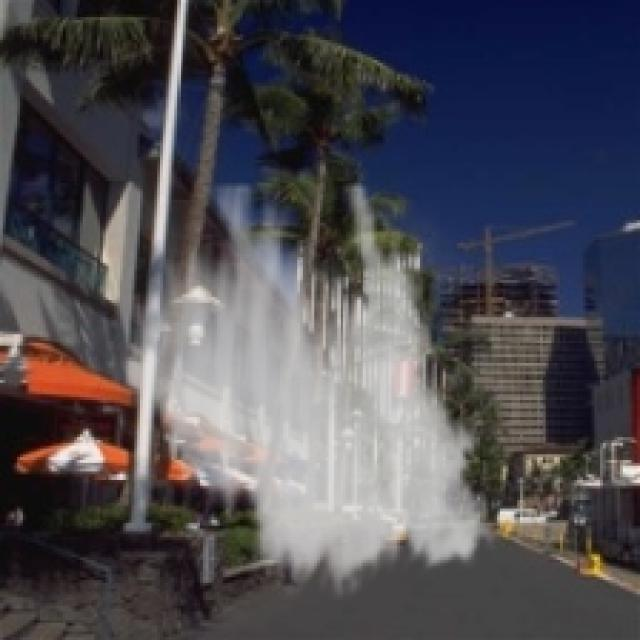smoke: (111, 183, 506, 600)
